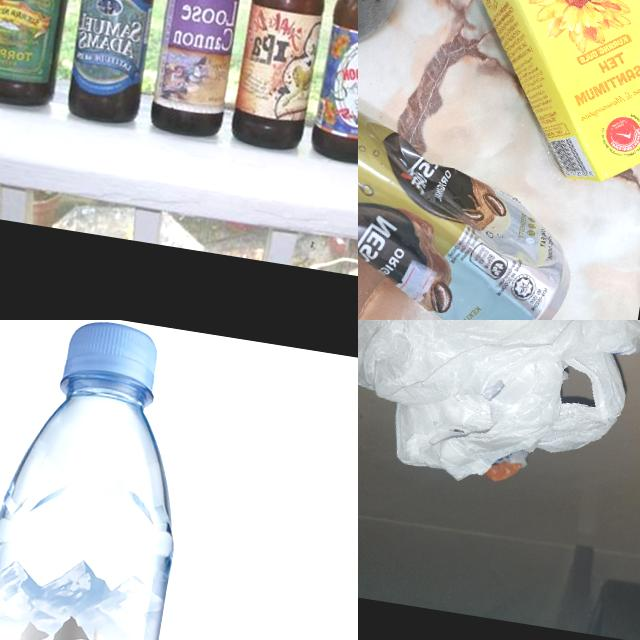caixinha: (420, 0, 640, 194)
garrafa de vidro: (228, 0, 346, 153), (145, 0, 263, 140), (58, 0, 181, 128), (0, 0, 88, 112), (308, 0, 358, 167)
garrafa plástica: (0, 366, 198, 640)
lata: (358, 85, 593, 320)
sacola plástica: (358, 320, 640, 514)
tampa plástica: (57, 320, 163, 409)
